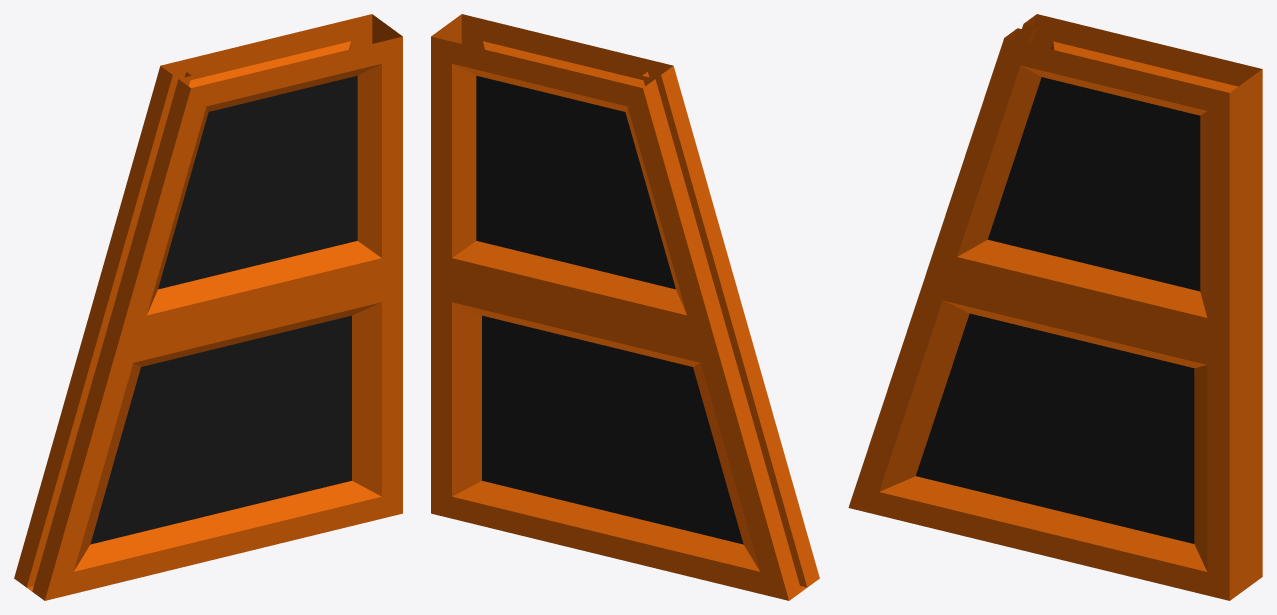
Rendered from door_l.fbx.
The picture shows the model from 3 angles, left to right: view 1: azimuth 30°, elevation 25°; view 2: azimuth 150°, elevation 25°; view 3: azimuth 330°, elevation 25°; orthographic projection. The views are drawn at different scales.
Parts seen in each view (by area): view 1: door_l; view 2: door_l; view 3: door_l.
Part boxes in pixels (left/top/right/bottom): door_l: left=14, top=14, right=402, bottom=600; door_l: left=431, top=14, right=819, bottom=600; door_l: left=848, top=14, right=1262, bottom=600.
Size of the model in its own units: 335 by 426 by 49.82.
